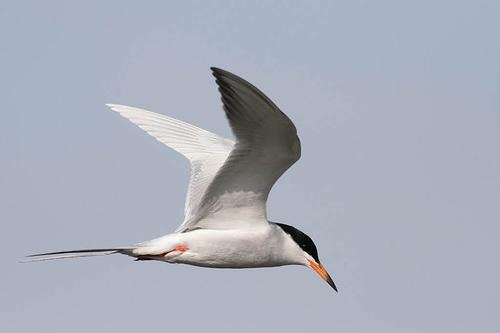bird: (16, 67, 339, 295)
